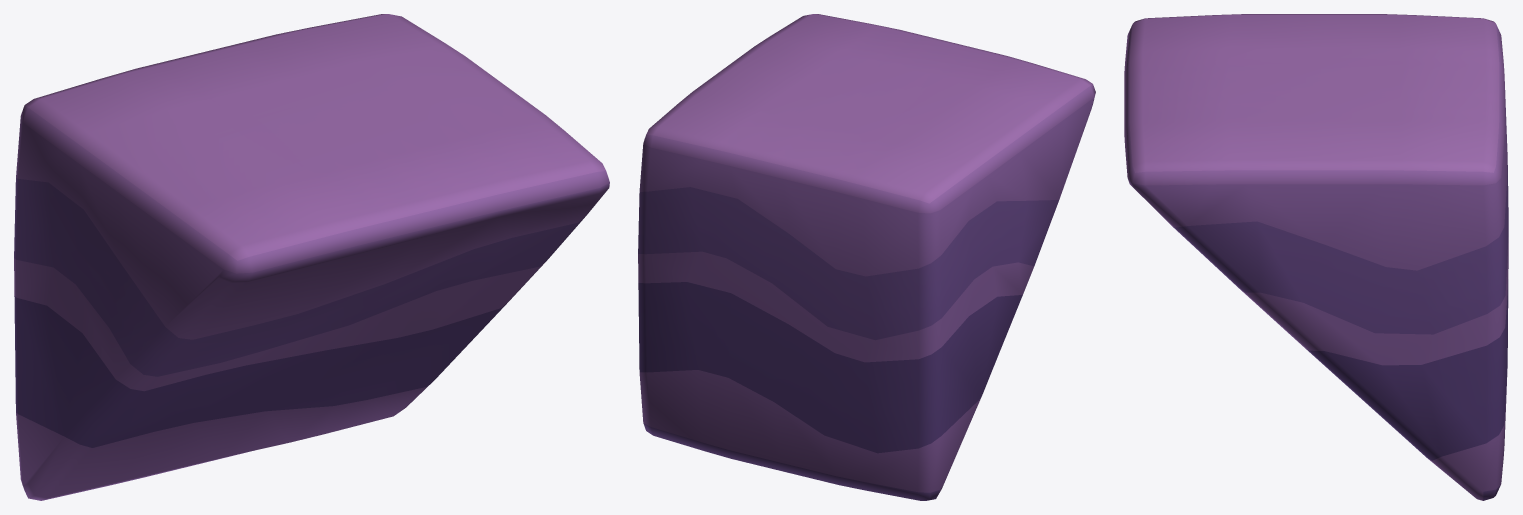
The model's file is Grass_Purple_SlopeUnder.fbx.
3 views of the same model, side by side, from view 1: azimuth 30°, elevation 25°; view 2: azimuth 150°, elevation 25°; view 3: azimuth 270°, elevation 25° (orthographic). The views are drawn at different scales.
Visible parts, largest first — view 1: Grass_Purple_SlopeUnder_LOD0; view 2: Grass_Purple_SlopeUnder_LOD0; view 3: Grass_Purple_SlopeUnder_LOD0.
Boxes of the visible parts, x1,y1,x2,y2 form: Grass_Purple_SlopeUnder_LOD0: [14, 14, 609, 500]; Grass_Purple_SlopeUnder_LOD0: [638, 14, 1095, 500]; Grass_Purple_SlopeUnder_LOD0: [1124, 14, 1508, 500].
Size of what is drawn, in the model's own units: 1.08 by 1.07 by 1.07.
